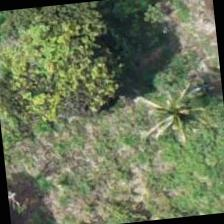Kelapa_Sawit: (123, 62, 222, 161)
